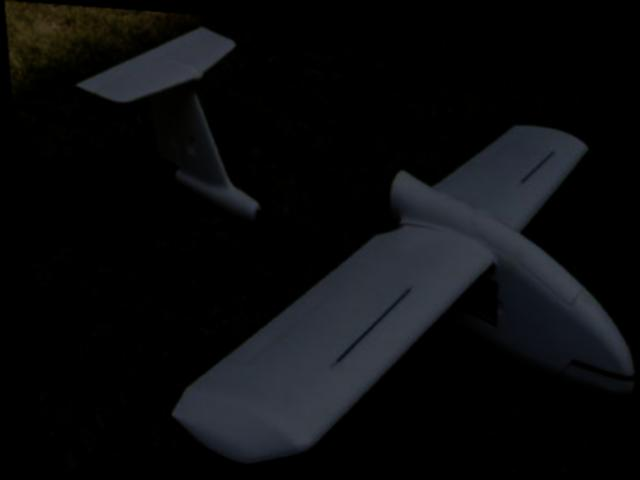uav: (60, 10, 640, 480)
